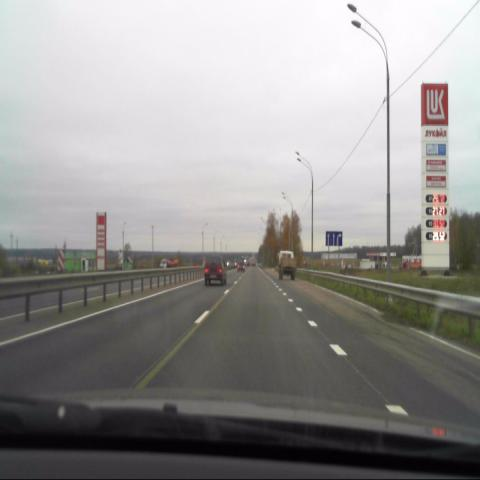5_15_1: (326, 230, 342, 248)
